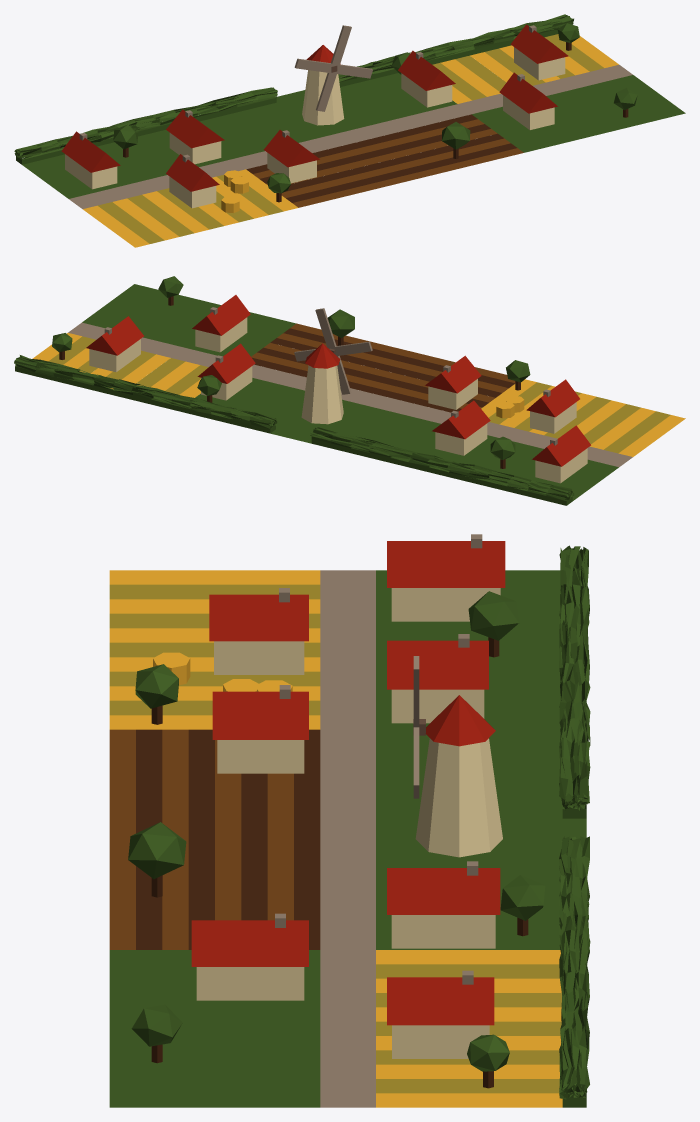
The model's file is villageB.glb.
3 renders of one model, top to bottom at view 1: azimuth 30°, elevation 25°; view 2: azimuth 150°, elevation 25°; view 3: azimuth 270°, elevation 25°, orthographic. The views are drawn at different scales.
Visible parts, largest first — view 1: P25, P26, P1, P16, H75, H76, Mill, P17, P18, P19, P20, P24 (+40 smaller); view 2: P25, P26, P1, H75, H76, P16, Mill, P17, R40, R57, R48, R60 (+40 smaller); view 3: P1, P26, P25, P16, Mill, H75, H76, P17, R40, R57, R54, P20 (+46 smaller).
Boxes of the visible parts, box(x1,y1,x2,y2) form: P25: box(200, 73, 457, 158); P26: box(472, 75, 685, 152); P1: box(69, 64, 632, 209); P16: box(22, 130, 231, 198); H75: box(14, 87, 277, 164); H76: box(338, 14, 573, 86); Mill: box(302, 70, 344, 125); P17: box(292, 148, 523, 207); P18: box(286, 143, 516, 202); P19: box(281, 138, 510, 198); P20: box(285, 133, 503, 191); P24: box(246, 114, 477, 173); P25: box(195, 378, 440, 458); P26: box(82, 284, 296, 356); P1: box(68, 322, 632, 467); H75: box(310, 427, 574, 505); H76: box(14, 355, 277, 433); P16: box(420, 435, 618, 500); Mill: box(301, 365, 343, 424); P17: box(290, 323, 515, 382); R40: box(532, 425, 590, 466); R57: box(192, 295, 250, 335); R48: box(432, 400, 490, 439); R60: box(86, 316, 143, 355); P1: box(320, 570, 375, 1107); P26: box(109, 950, 320, 1107); P25: box(376, 729, 562, 949); P16: box(376, 570, 560, 729); Mill: box(415, 738, 502, 857); H75: box(559, 545, 590, 818); H76: box(559, 836, 590, 1107); P17: box(109, 729, 135, 949); R40: box(387, 541, 505, 587); R57: box(191, 920, 308, 966); R54: box(387, 868, 500, 914); P20: box(188, 729, 214, 949).
Bounding box in the file's own units: 16.1 × 2.67 × 6.05.
